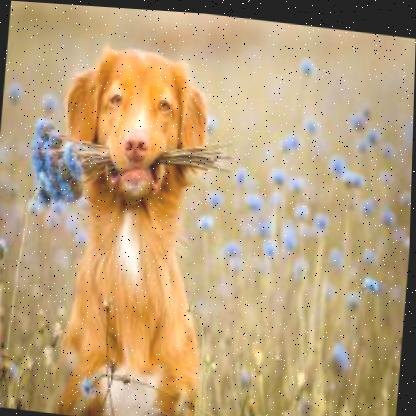dog: (36, 37, 229, 416)
